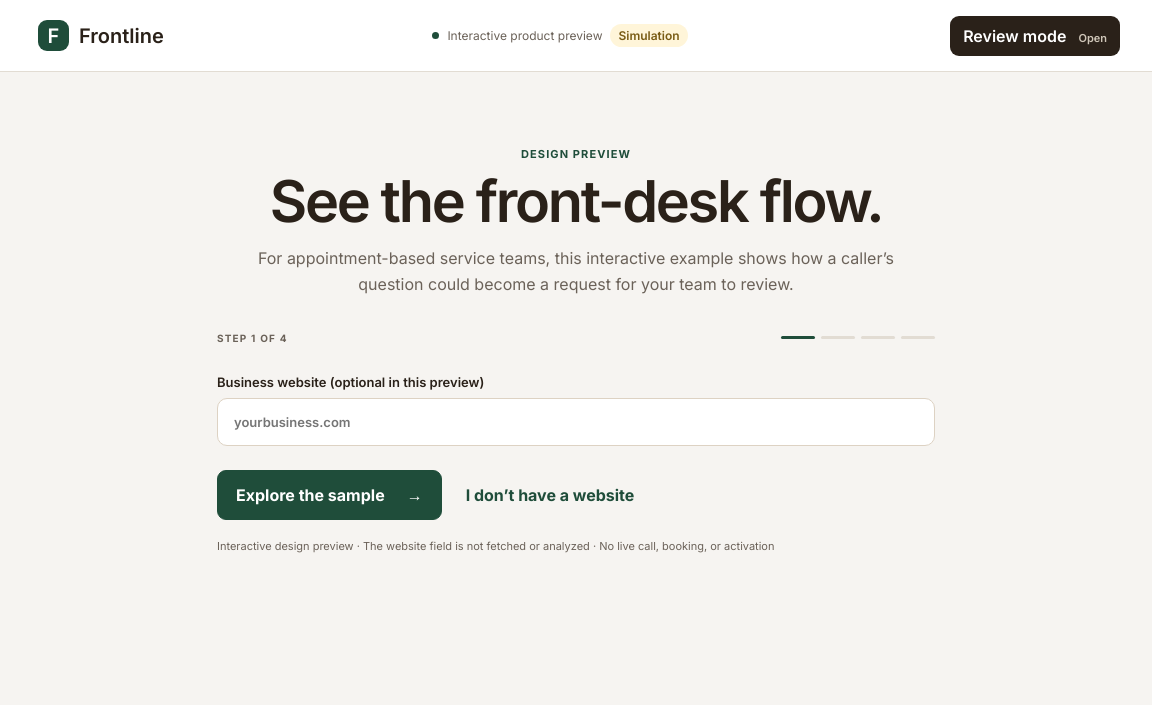
returns an incomplete activation to setup for recovery
Click the button "Review mode Open" at (1035, 36), box [950,16,1120,56]
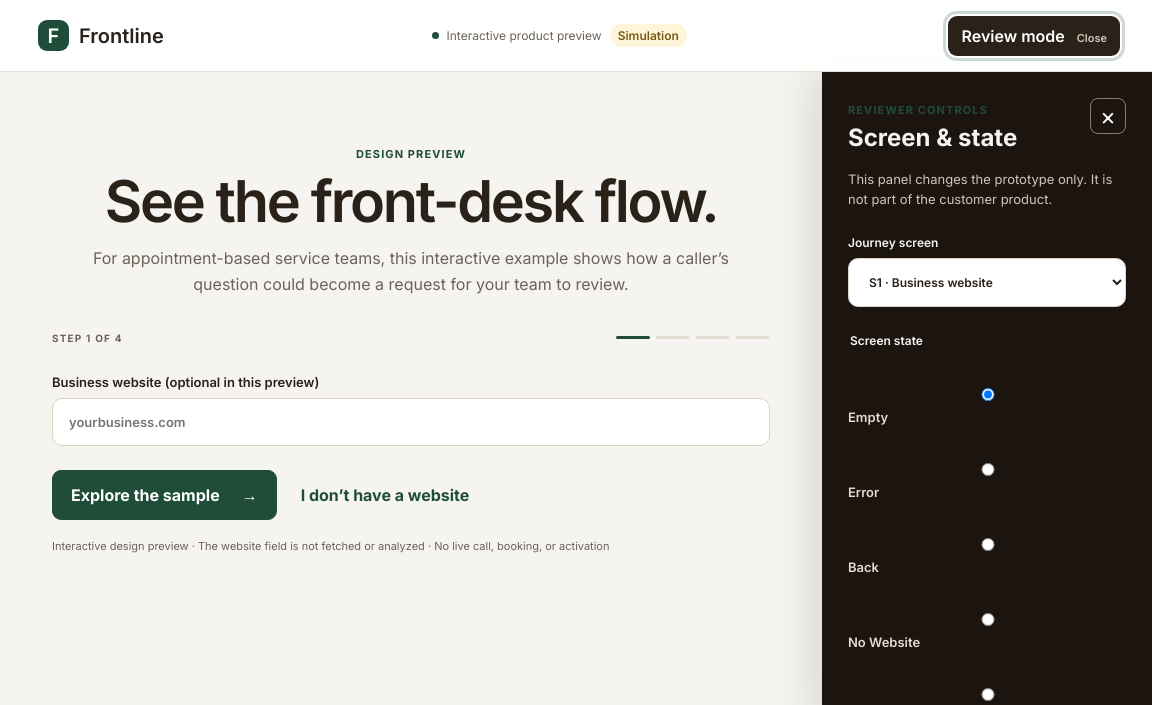
Select "S10 · Agent home" in the dropdown labelled "Journey screen" at (987, 282), box [848,258,1126,307]
(page scrolled)
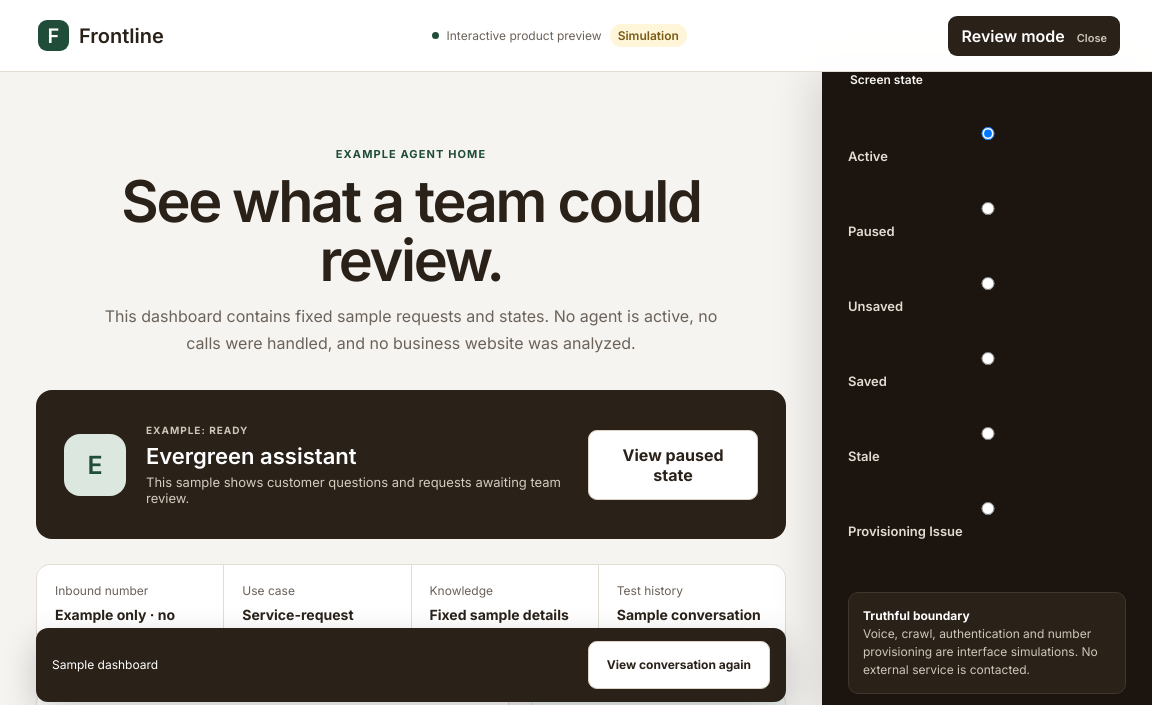
Click the radio button labelled "provisioning issue" at (988, 508), box [853,502,1123,515]
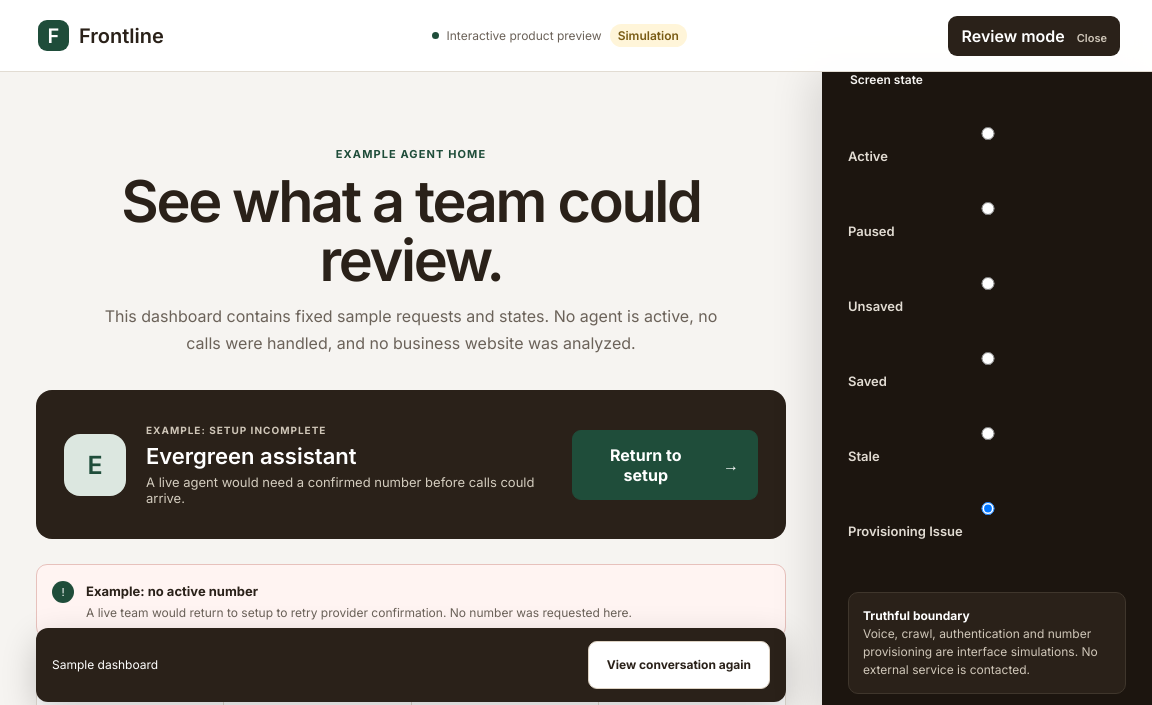
Click the button "Return to setup →" at (665, 465), box [572,430,758,500]
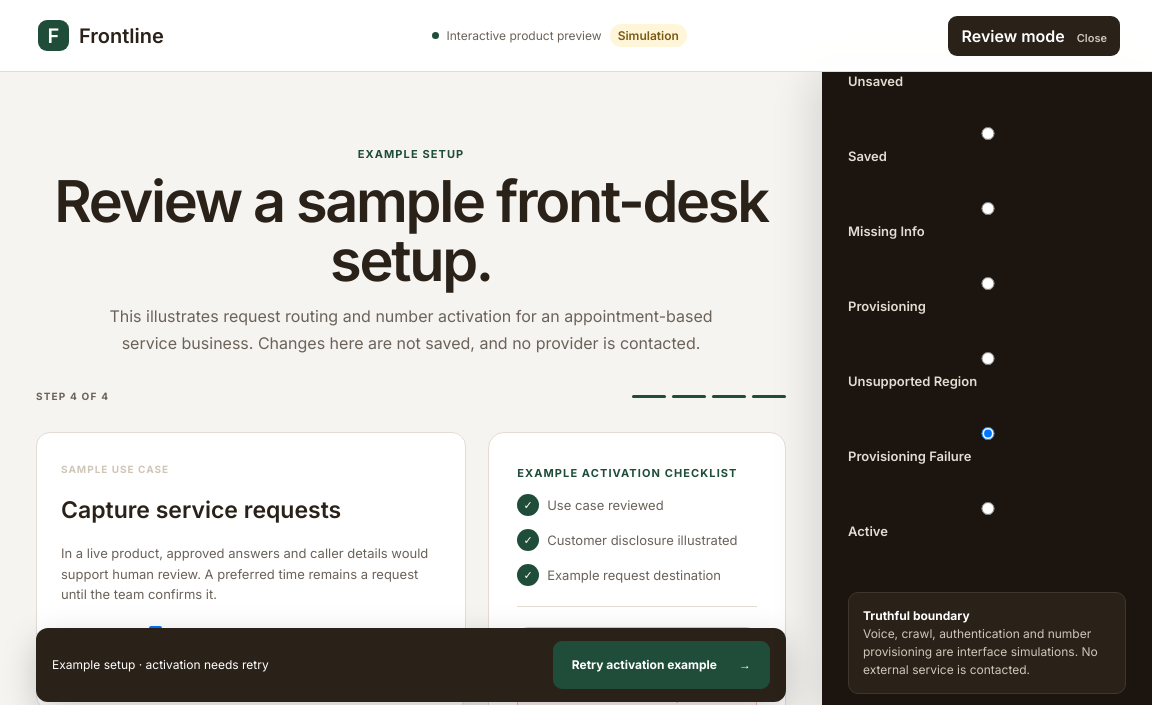
Check: the message shows "activation not confirmed", box [567,646,716,682]
Check: the button "Retry activation example →" is shown, box [553,641,770,689]
